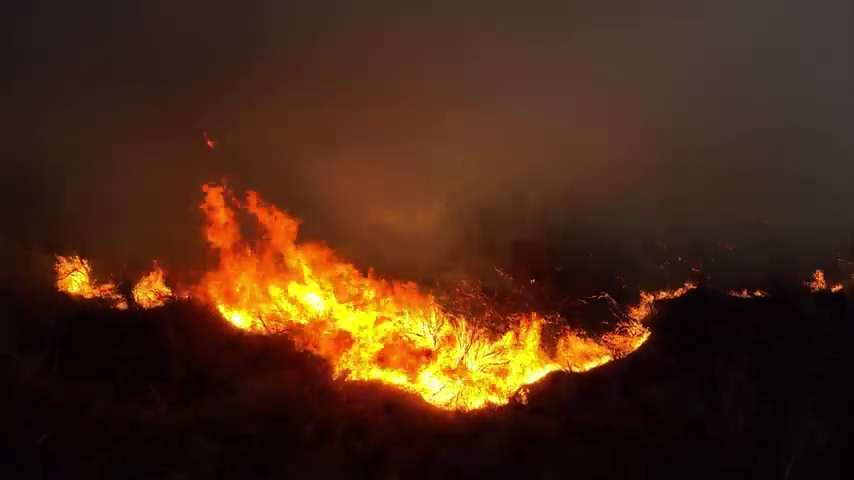forest_fire: (189, 185, 695, 409), (55, 256, 179, 308), (806, 270, 841, 290)
